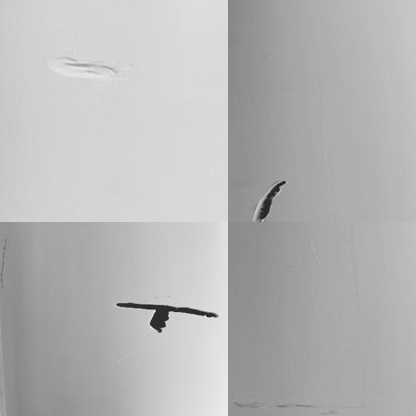fengxi: (116, 297, 216, 319)
kongdong: (249, 177, 288, 223), (151, 310, 169, 337)
sunshang: (45, 49, 127, 85)
